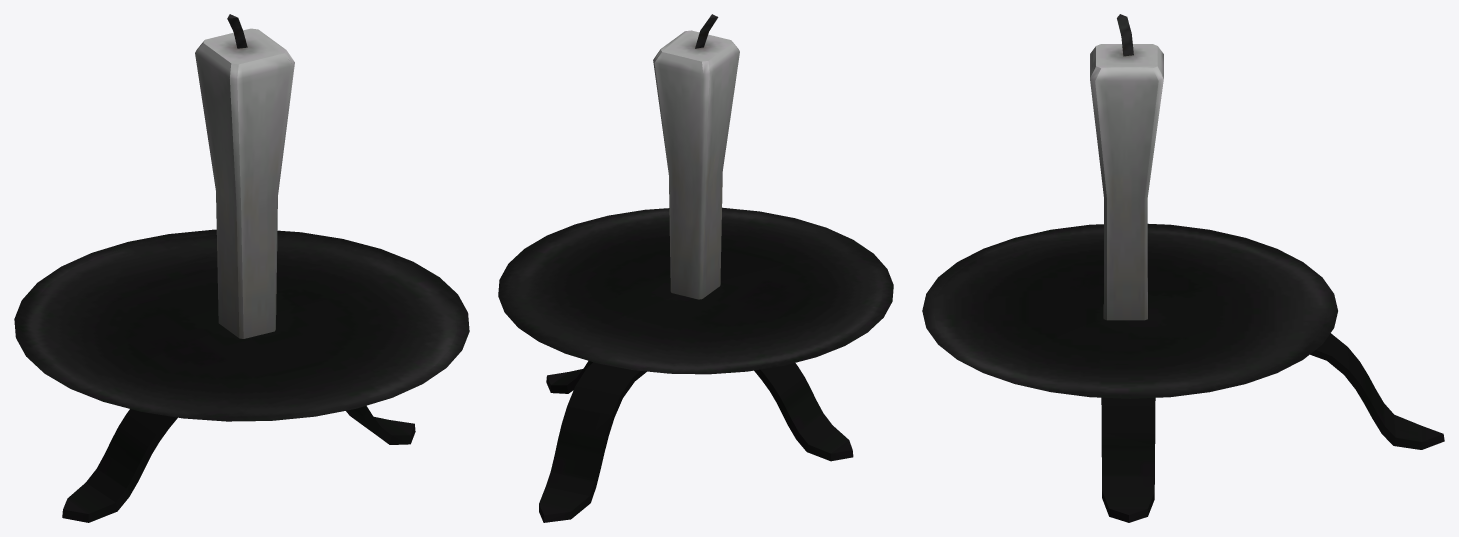
The model's file is Candle1.a.fbx.
3 renders of one model, left to right at view 1: azimuth 30°, elevation 25°; view 2: azimuth 150°, elevation 25°; view 3: azimuth 270°, elevation 25°, orthographic. The views are drawn at different scales.
Visible parts, largest first — view 1: Group 0; view 2: Group 0; view 3: Group 0.
Boxes of the visible parts, box(x1,y1,x2,y2) form: Group 0: box(14, 14, 469, 522); Group 0: box(498, 14, 893, 522); Group 0: box(922, 14, 1444, 522).
Bounding box in the file's own units: 20.11 × 22.61 × 25.26.
2 materials, 2 textured.
